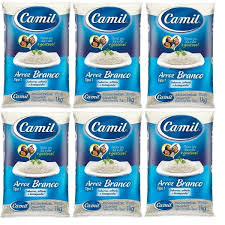arroz: (1, 2, 74, 108), (143, 2, 216, 108), (73, 111, 144, 217), (144, 111, 214, 216), (2, 110, 70, 217), (72, 1, 142, 104)
